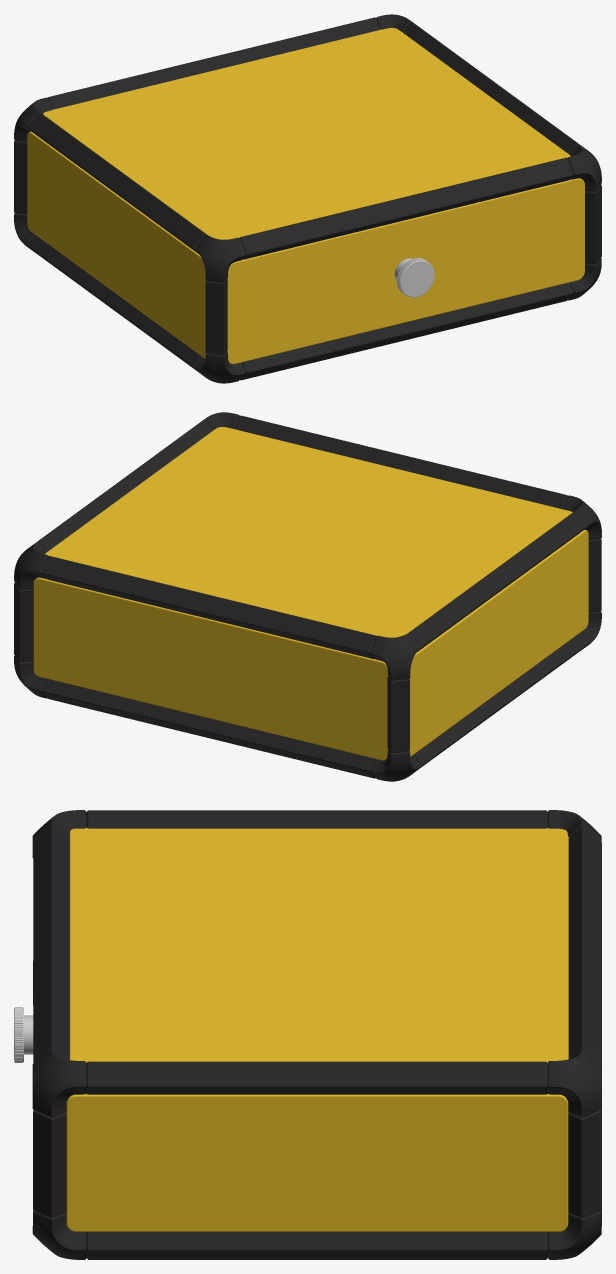
3 renders of one model, top to bottom at view 1: azimuth 30°, elevation 25°; view 2: azimuth 150°, elevation 25°; view 3: azimuth 270°, elevation 25°, orthographic. The views are drawn at different scales.
Visible parts, largest first — view 1: 374x329x79; view 2: 374x329x79; view 3: 374x329x79.
Boxes of the visible parts, x1,y1,x2,y2 form: 374x329x79: (14, 14, 601, 383); 374x329x79: (14, 412, 601, 781); 374x329x79: (14, 810, 601, 1259).
Bounding box in the file's own units: 0.4517 × 0.1566 × 0.4196.
